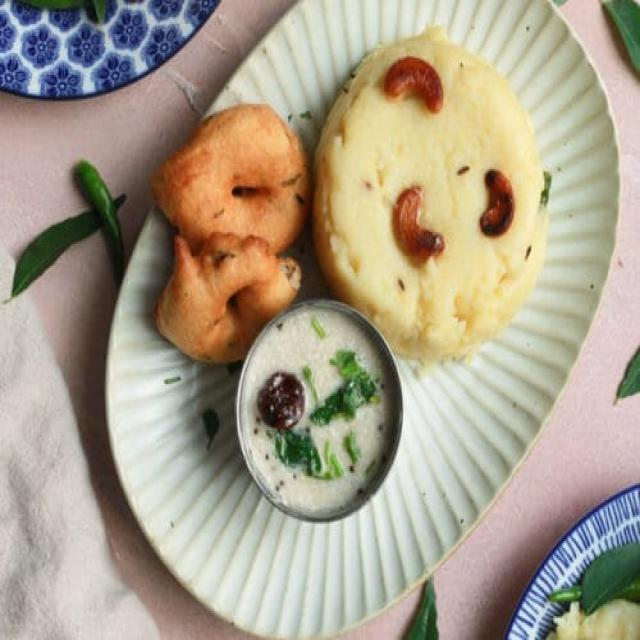kesari bath: (306, 17, 557, 364)
